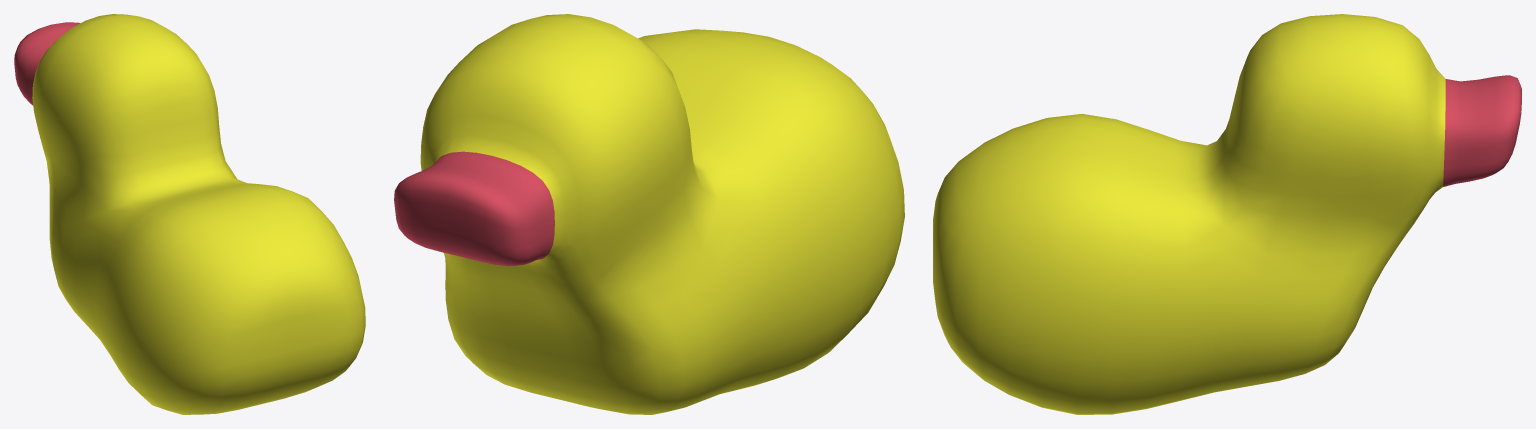
Rendered from Emblems_Duck.fbx.
The picture shows the model from 3 angles, left to right: view 1: azimuth 30°, elevation 25°; view 2: azimuth 150°, elevation 25°; view 3: azimuth 270°, elevation 25°; orthographic projection. The views are drawn at different scales.
Visible parts, largest first — view 1: Emblem_Duck; view 2: Emblem_Duck; view 3: Emblem_Duck.
Boxes of the visible parts, box(x1,y1,x2,y2) form: Emblem_Duck: box(14, 14, 365, 414); Emblem_Duck: box(394, 14, 904, 414); Emblem_Duck: box(933, 14, 1521, 414).
Size of the model in its own units: 769 by 1008 by 1487.
